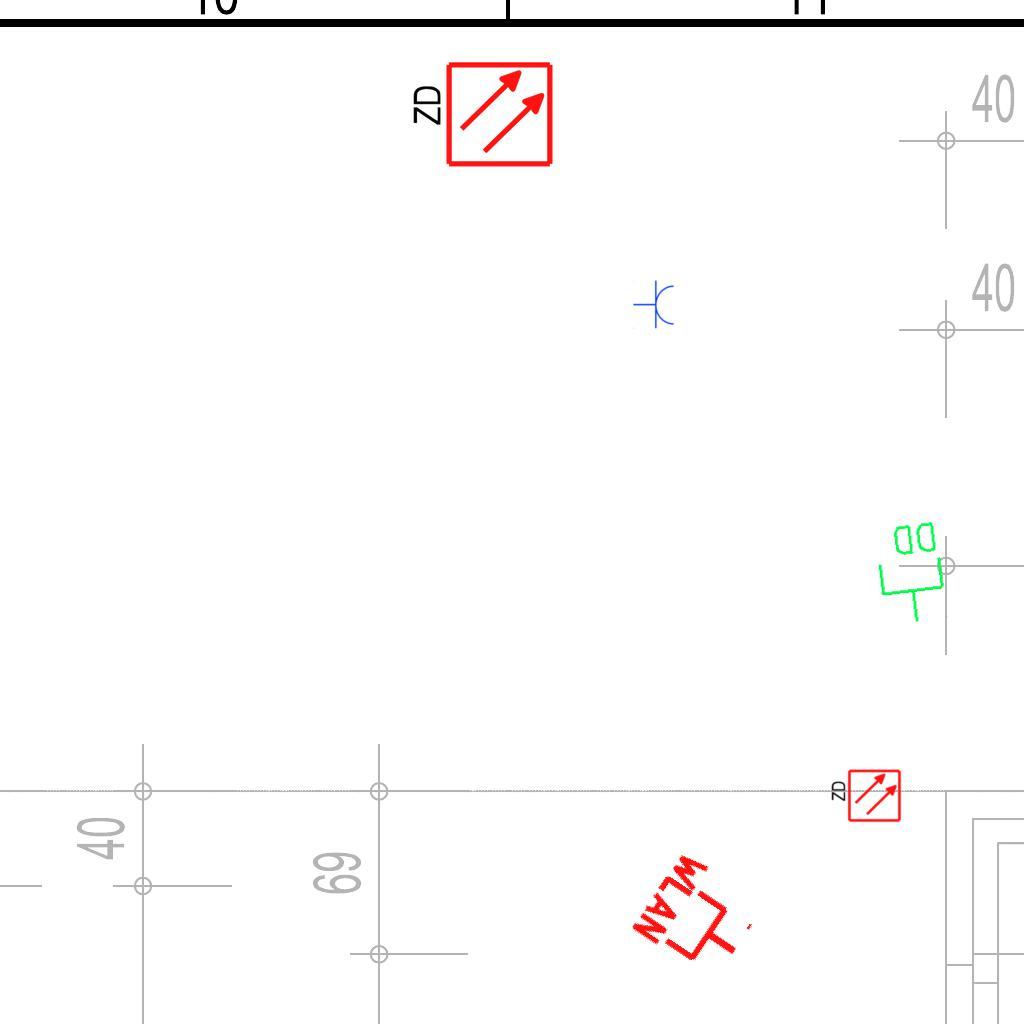Datenanschluss_zweifach: (870, 517, 953, 628)
Schukosteckdose_einfach: (633, 280, 676, 330)
WLAN: (626, 844, 773, 990)
ZD_Melder_in_Zwischendecke_mit_Revisionsoeffnung_mind_40_x_40_cm: (406, 59, 555, 173), (828, 768, 902, 825)
